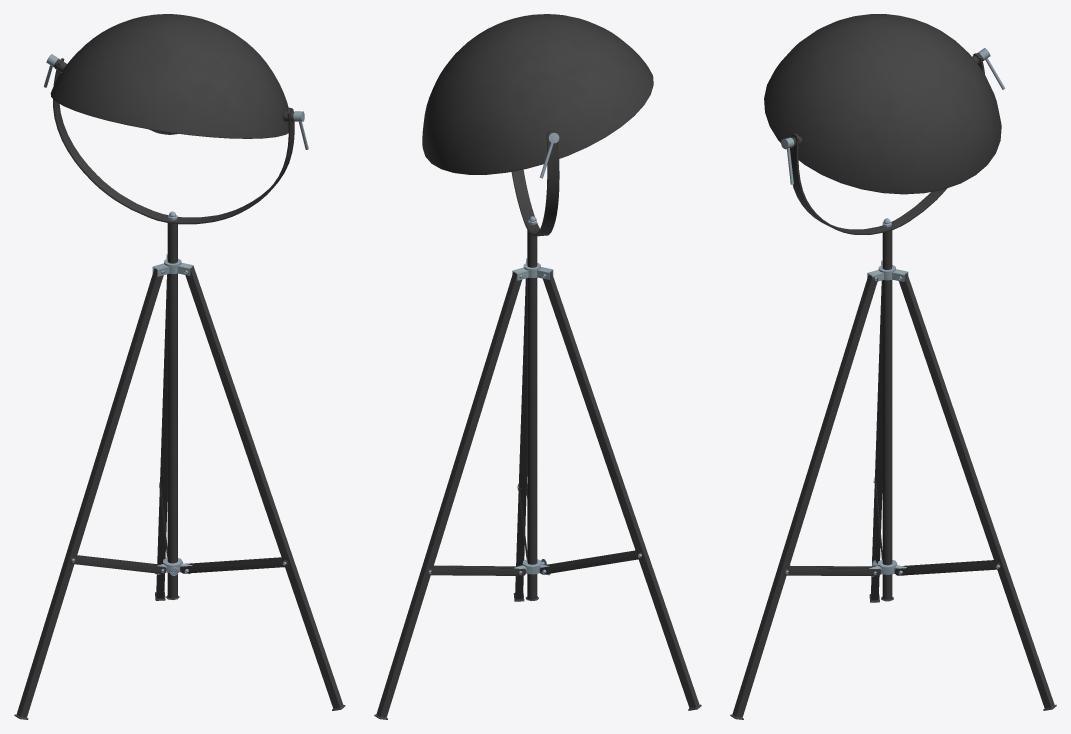
3 views of the same model, side by side, from view 1: azimuth 30°, elevation 25°; view 2: azimuth 150°, elevation 25°; view 3: azimuth 270°, elevation 25° (orthographic).
Visible parts, largest first — view 1: g (×2); view 2: g (×2); view 3: g (×2).
Part boxes in pixels (bbox=[...]): g (×2): bbox=[14, 14, 345, 719]; g (×2): bbox=[374, 14, 701, 719]; g (×2): bbox=[730, 14, 1056, 719].
Size of what is drawn, in the model's own units: 0.8338 by 2 by 0.9159.
5 materials, 5 textured.
